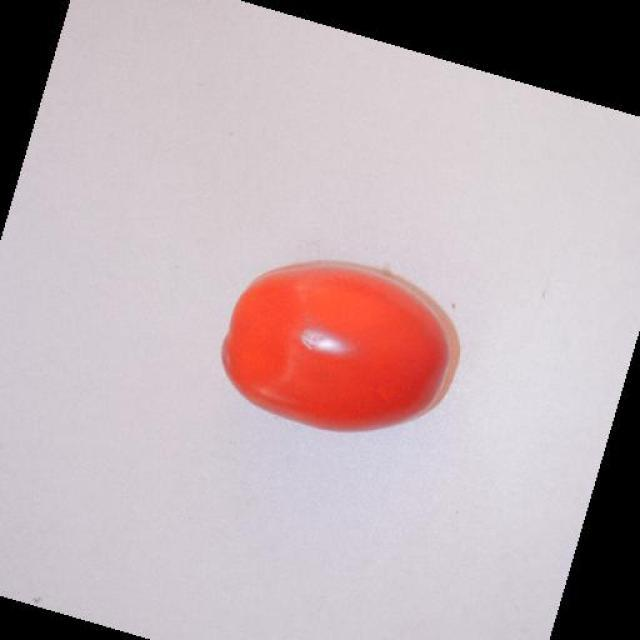Fresh Tomato: (202, 225, 484, 471)
